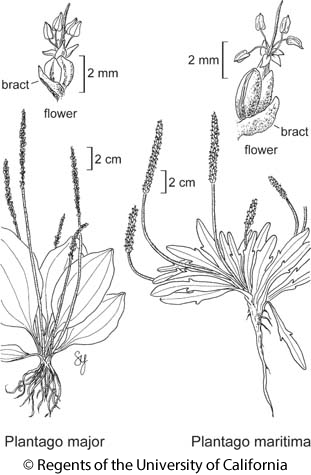buckhorn plantain: (136, 106, 311, 354), (1, 104, 103, 383)
